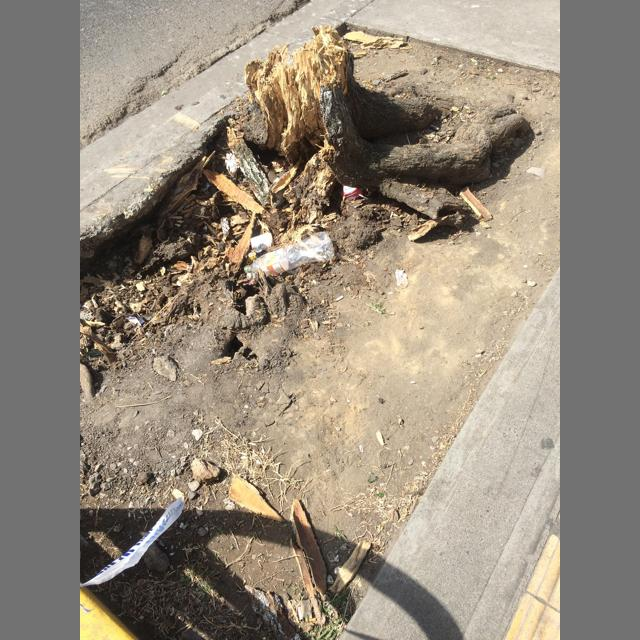litter: (81, 498, 184, 588), (244, 232, 334, 275), (242, 243, 263, 269), (250, 233, 271, 250), (343, 185, 363, 201), (127, 313, 145, 328), (358, 194, 368, 200), (335, 296, 344, 302)
